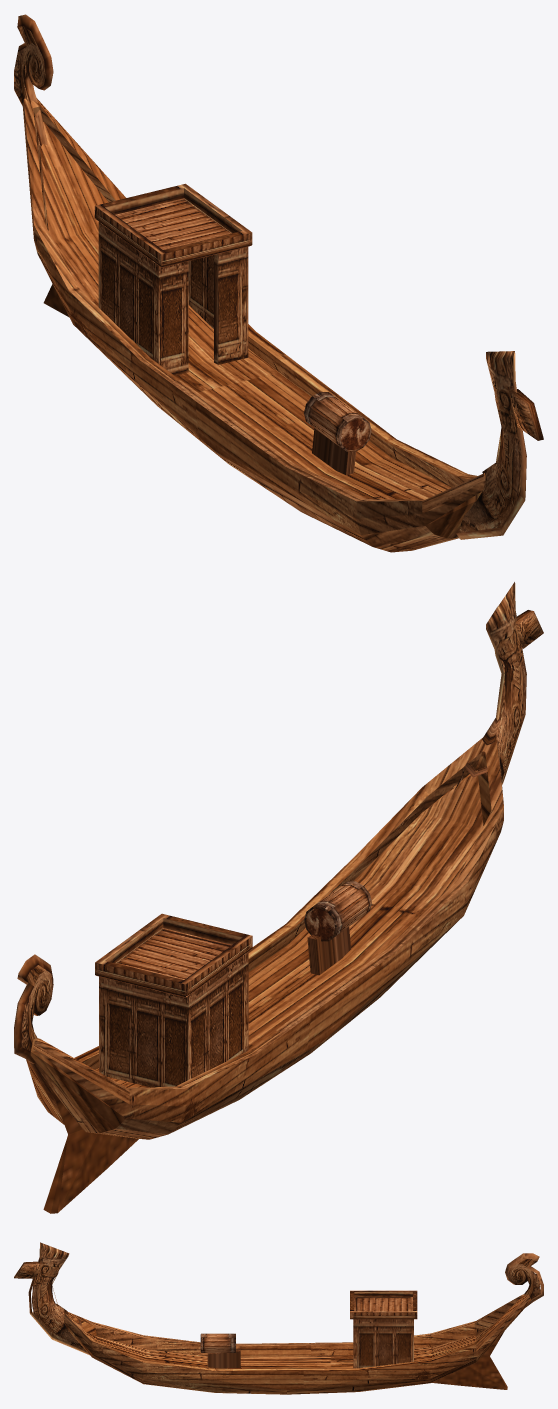
The model's file is scout_ship_01.dae.
3 renders of one model, top to bottom at view 1: azimuth 30°, elevation 25°; view 2: azimuth 150°, elevation 25°; view 3: azimuth 270°, elevation 25°, orthographic. The views are drawn at different scales.
Parts seen in each view (by area): view 1: scout_ship; view 2: scout_ship; view 3: scout_ship.
Boxes of the visible parts, box(x1,y1,x2,y2) form: scout_ship: box(14, 14, 543, 552); scout_ship: box(14, 582, 543, 1213); scout_ship: box(14, 1242, 543, 1394).
Bounding box in the file's own units: 4.37 × 34.22 × 10.5.
Materials: 1 (1 with a texture image).
